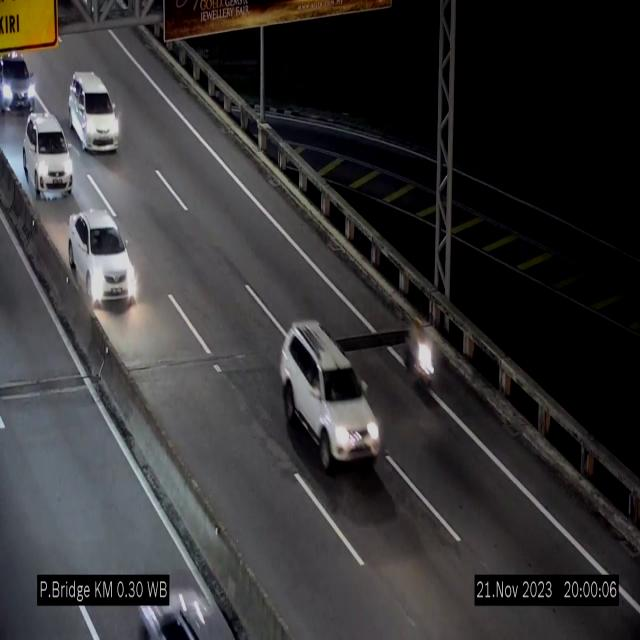Car: (279, 322, 383, 470), (68, 207, 138, 305), (19, 109, 73, 203), (68, 72, 120, 152), (0, 49, 38, 112)
Motorcycle: (404, 316, 439, 408)
